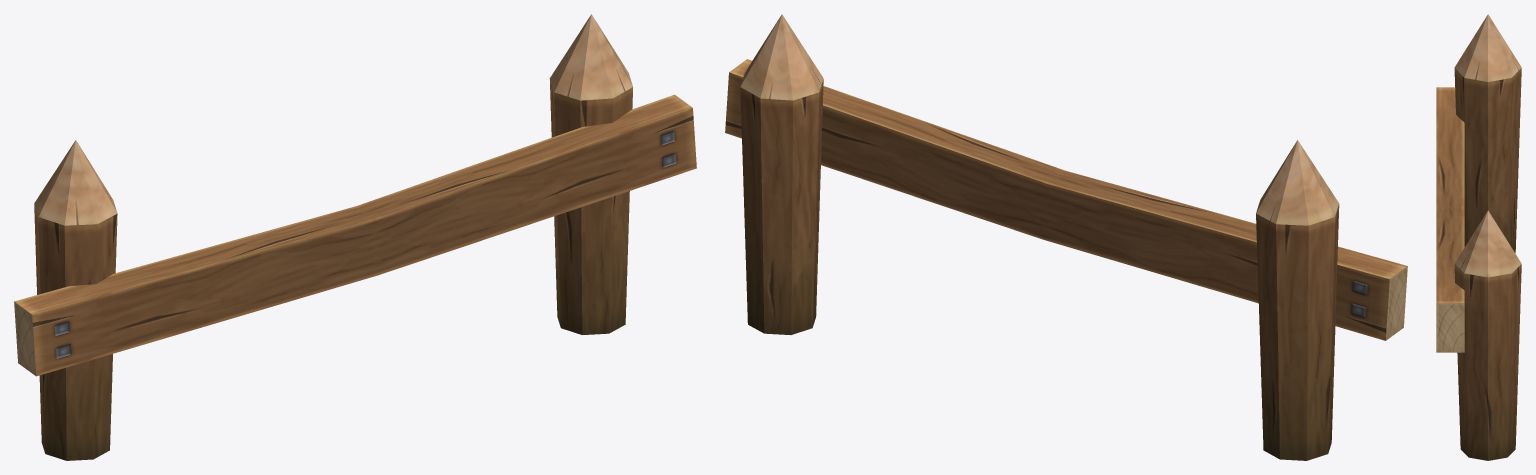
Rendered from wooden_fence_27.fbx.
3 views of the same model, side by side, from view 1: azimuth 30°, elevation 25°; view 2: azimuth 150°, elevation 25°; view 3: azimuth 270°, elevation 25° (orthographic). The views are drawn at different scales.
Parts seen in each view (by area): view 1: wooden_fence_27:Mesh; view 2: wooden_fence_27:Mesh; view 3: wooden_fence_27:Mesh.
Part boxes in pixels (x1,y1,x2,y2): wooden_fence_27:Mesh: [14, 14, 696, 460]; wooden_fence_27:Mesh: [725, 14, 1407, 460]; wooden_fence_27:Mesh: [1436, 14, 1521, 460].
Size of the model in its own units: 8.2 by 3.62 by 1.17.
